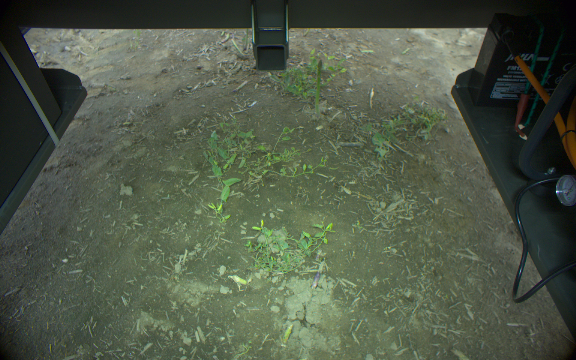aspa: (315, 57, 323, 120), (310, 270, 322, 292)
